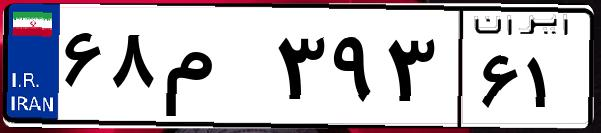1: (525, 38, 570, 115)
3: (270, 28, 330, 110), (385, 28, 445, 110)
6: (57, 26, 110, 100), (475, 38, 525, 113)
8: (110, 28, 158, 98)
9: (330, 28, 385, 110)
م: (158, 20, 270, 120)
